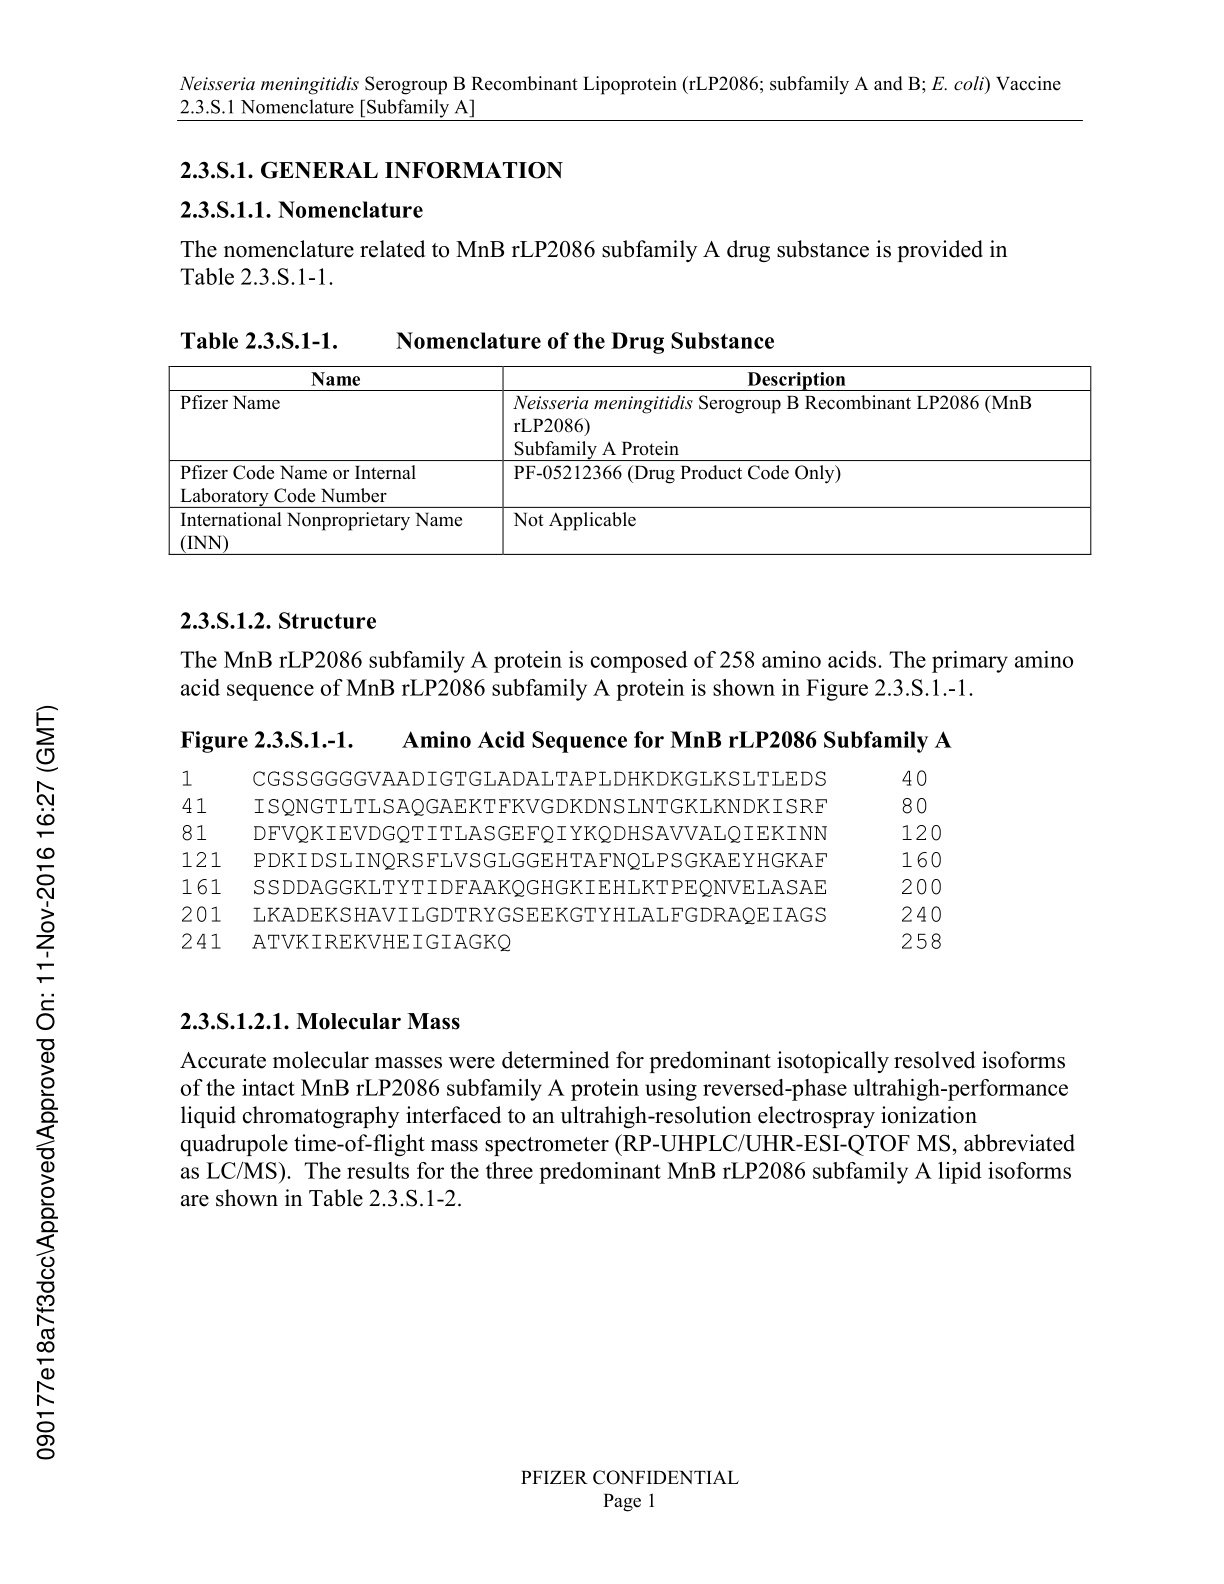full_lined: (168, 365, 1092, 555)
nolines: (175, 724, 955, 954)
